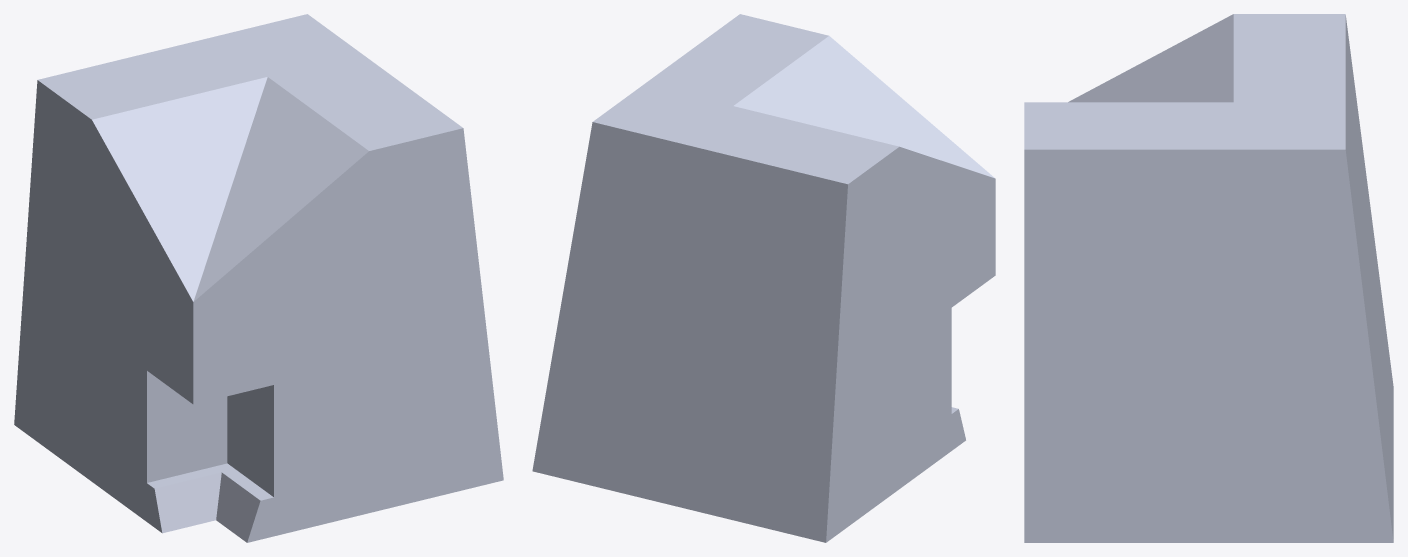
The picture shows the model from 3 angles, left to right: view 1: azimuth 30°, elevation 25°; view 2: azimuth 150°, elevation 25°; view 3: azimuth 270°, elevation 25°; orthographic projection. The views are drawn at different scales.
Visible parts, largest first — view 1: object_050; view 2: object_050; view 3: object_050.
Part boxes in pixels (<box>): object_050: <box>14,14,503,542</box>; object_050: <box>532,14,995,542</box>; object_050: <box>1024,14,1393,542</box>.
Bounding box in the file's own units: 2.98 × 3.32 × 2.98.
